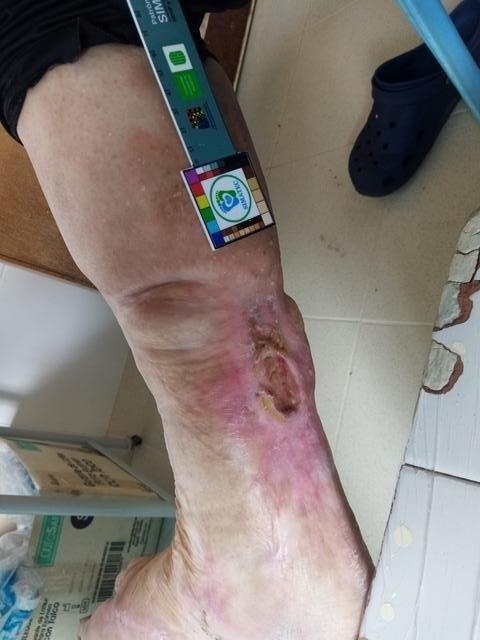wound: (249, 299, 303, 420)
